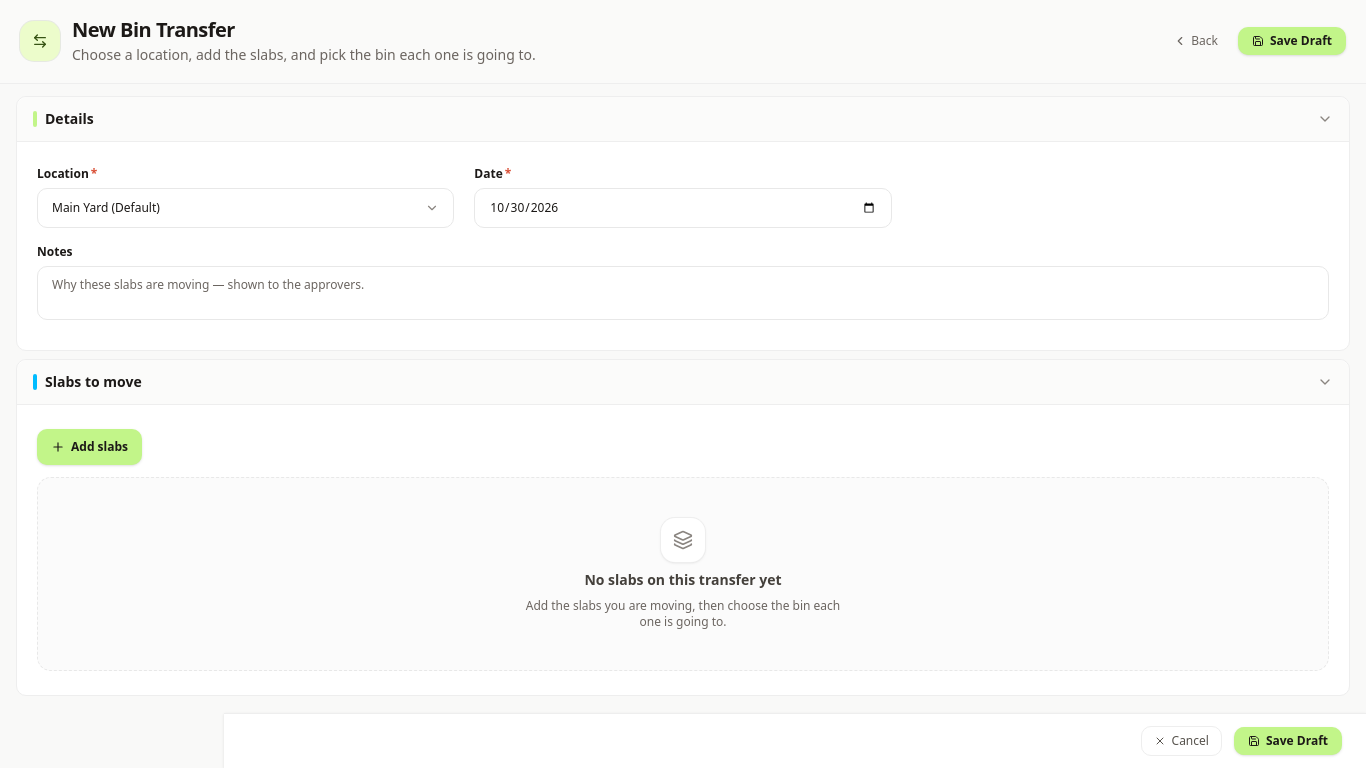
Test: AddBinTransferPage › asks before discarding a draft with slabs on it, and stays when told to
Click the button "Add slabs": x=90, y=447 [37,429,142,465]
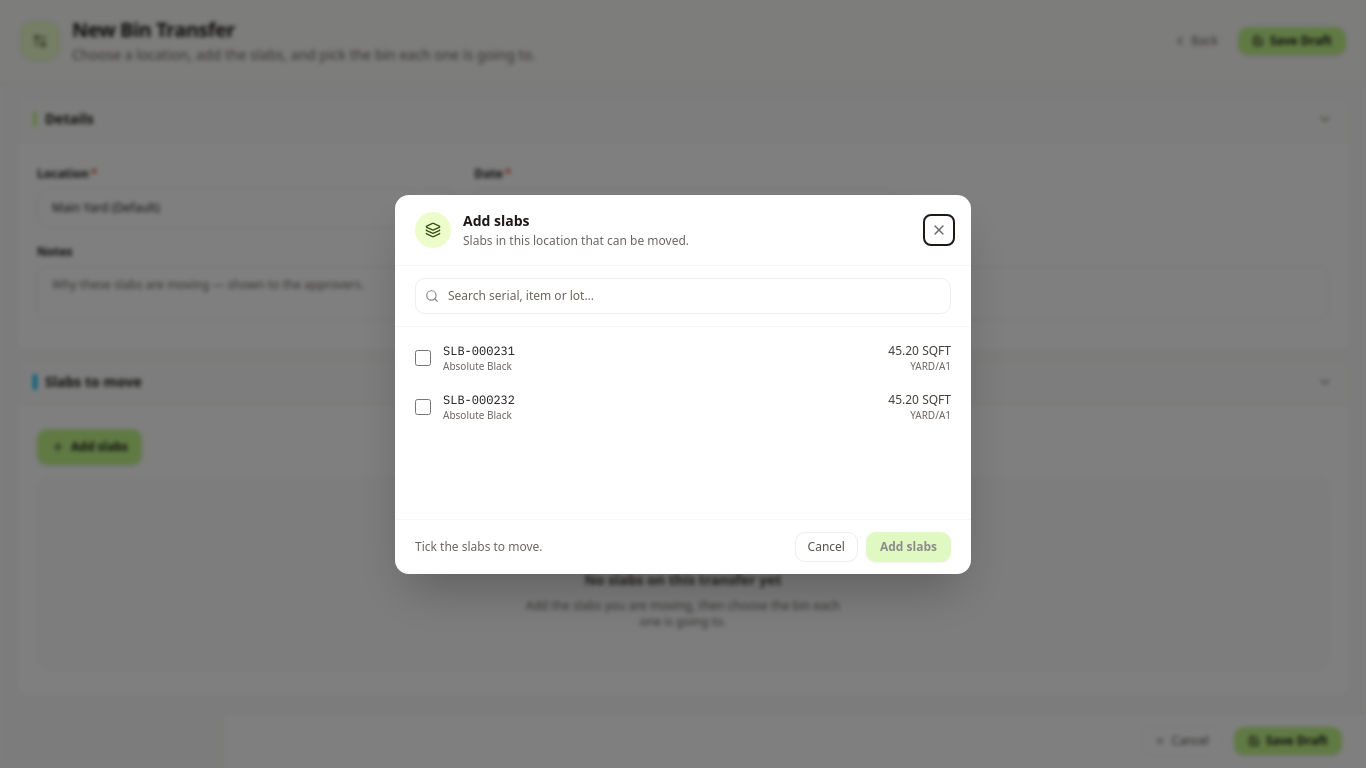
Click the checkbox named "Select SLB-000231": x=423, y=358 [415,350,431,366]
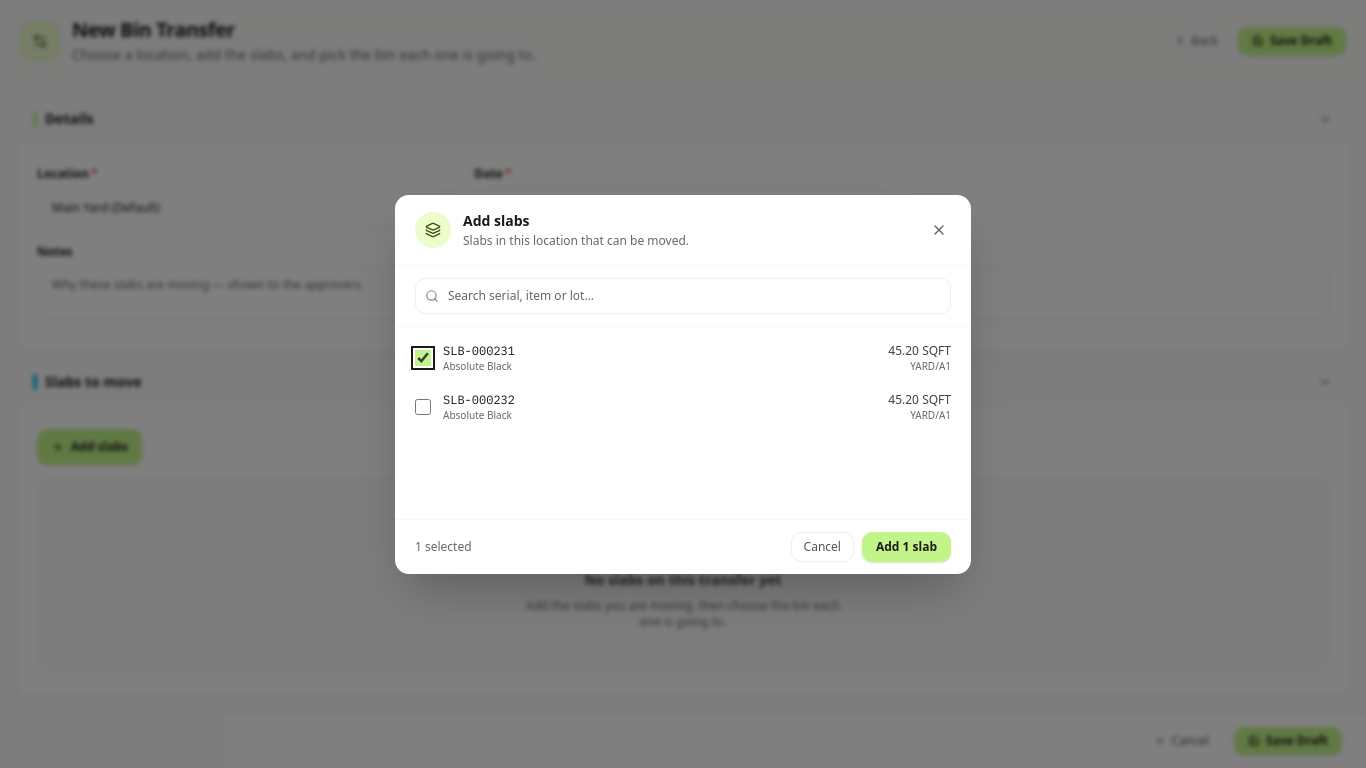
Click the button "Add 1 slab": x=906, y=546 [862,532,951,562]
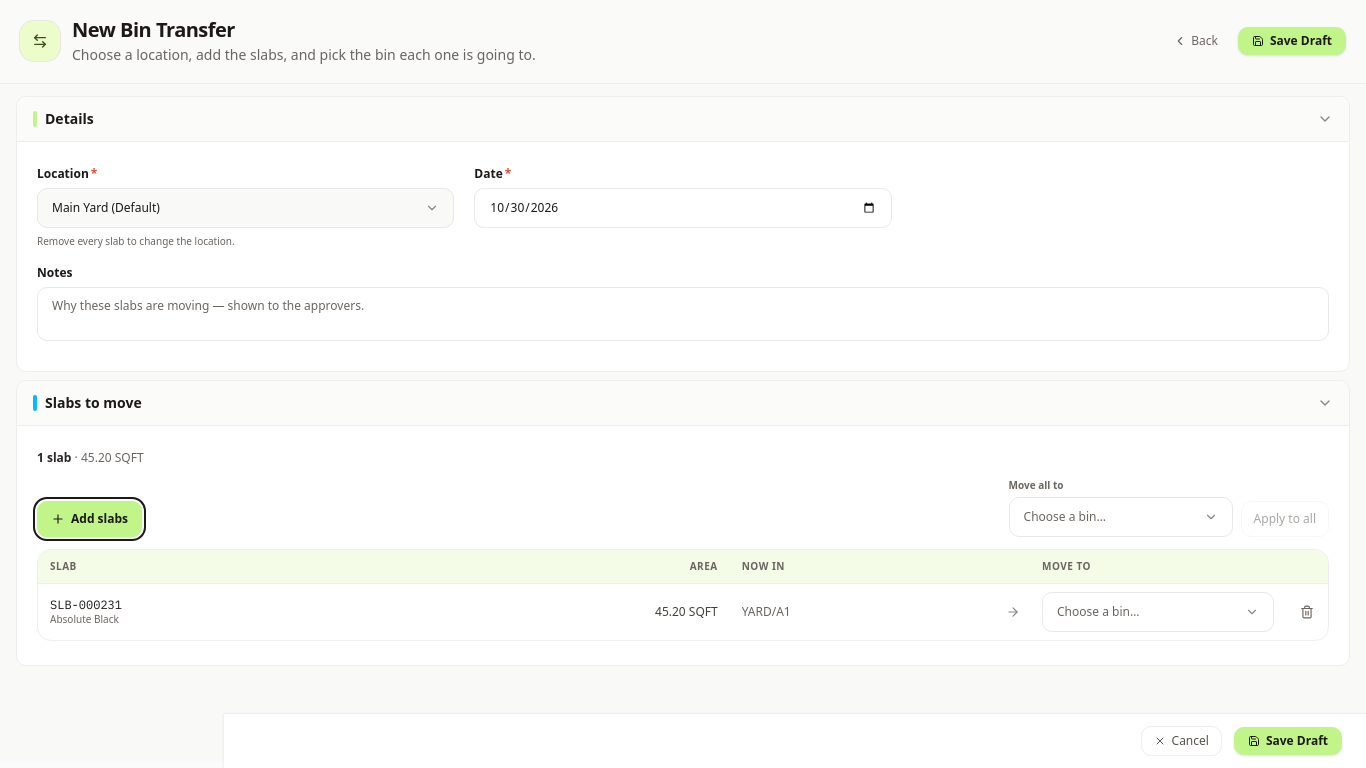
Click the button "Cancel": x=1181, y=741 [1140,726,1222,756]
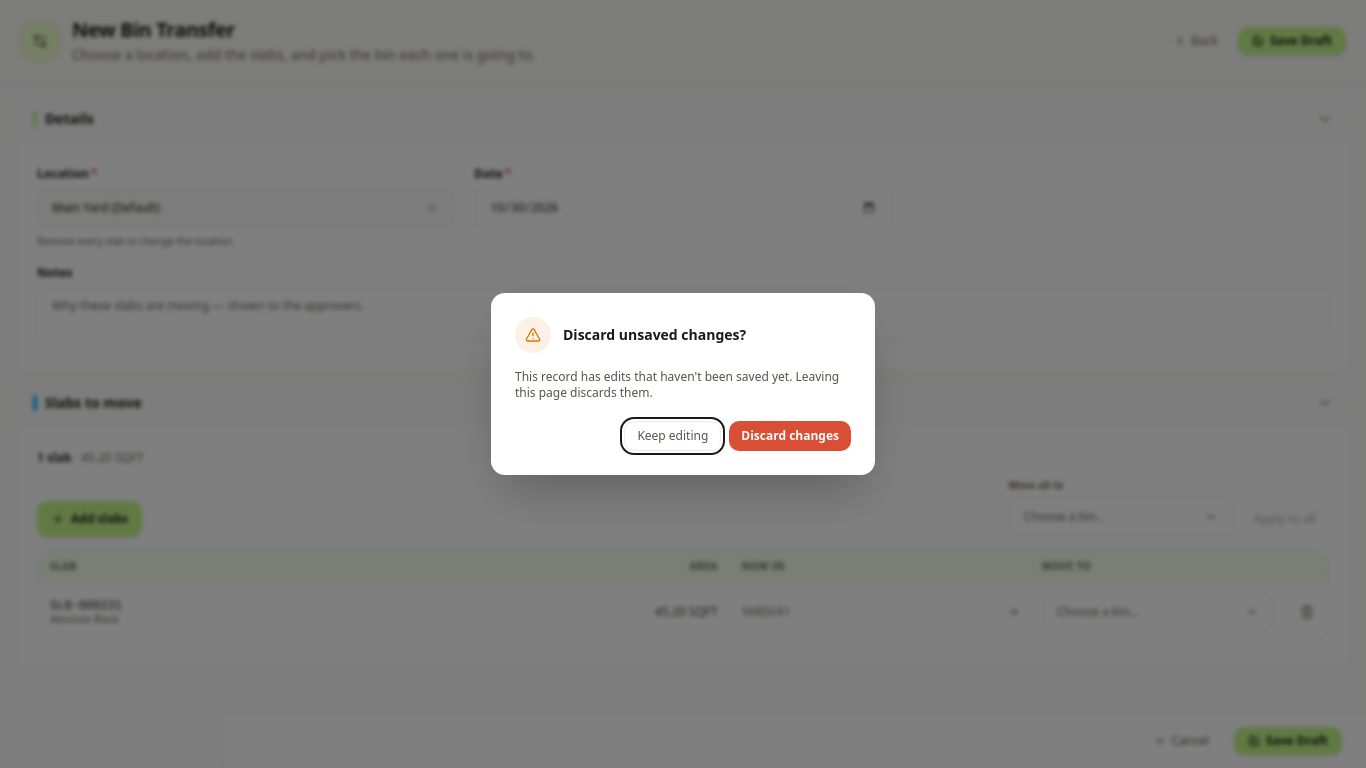
Result: the heading "Discard unsaved changes?" is shown at [563,325,746,345]
Click the button "Keep editing": x=673, y=436 [624,421,721,451]
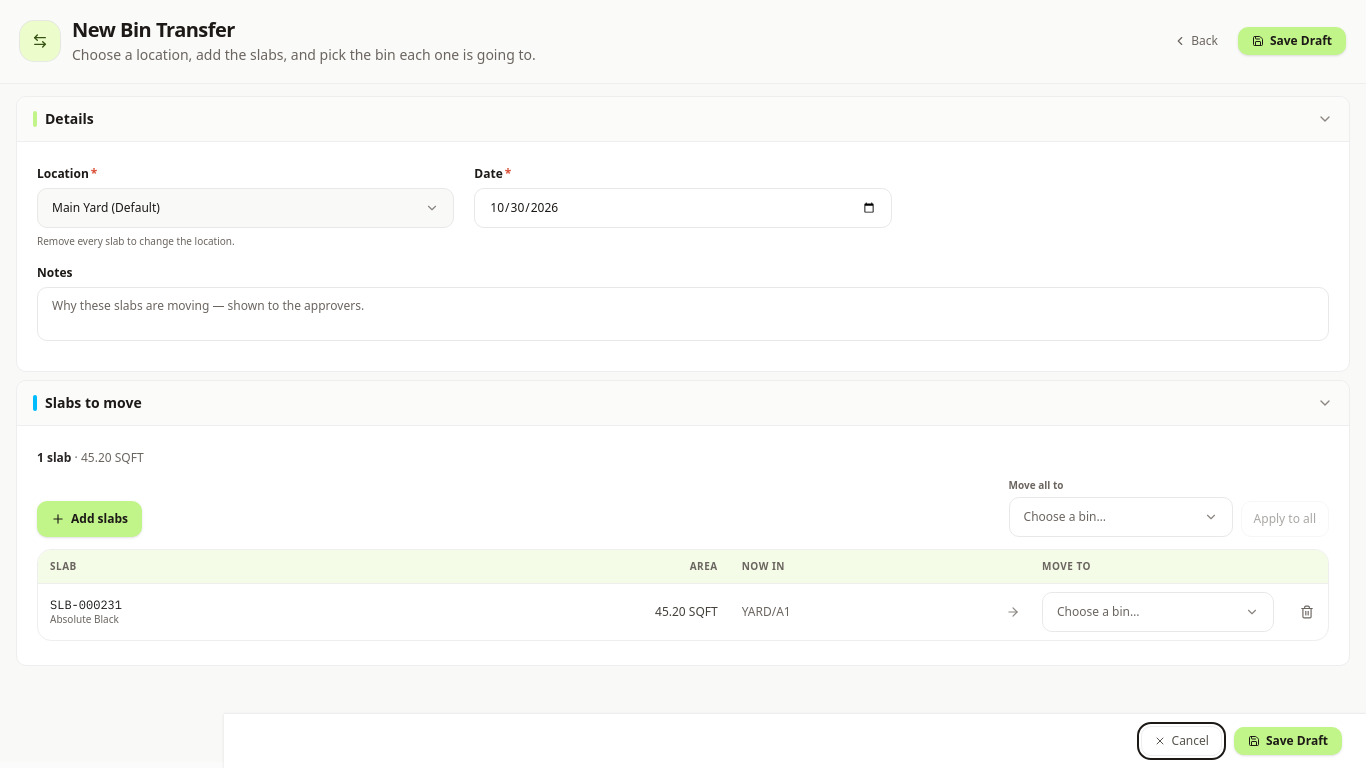
Result: the heading "Discard unsaved changes?" is gone
